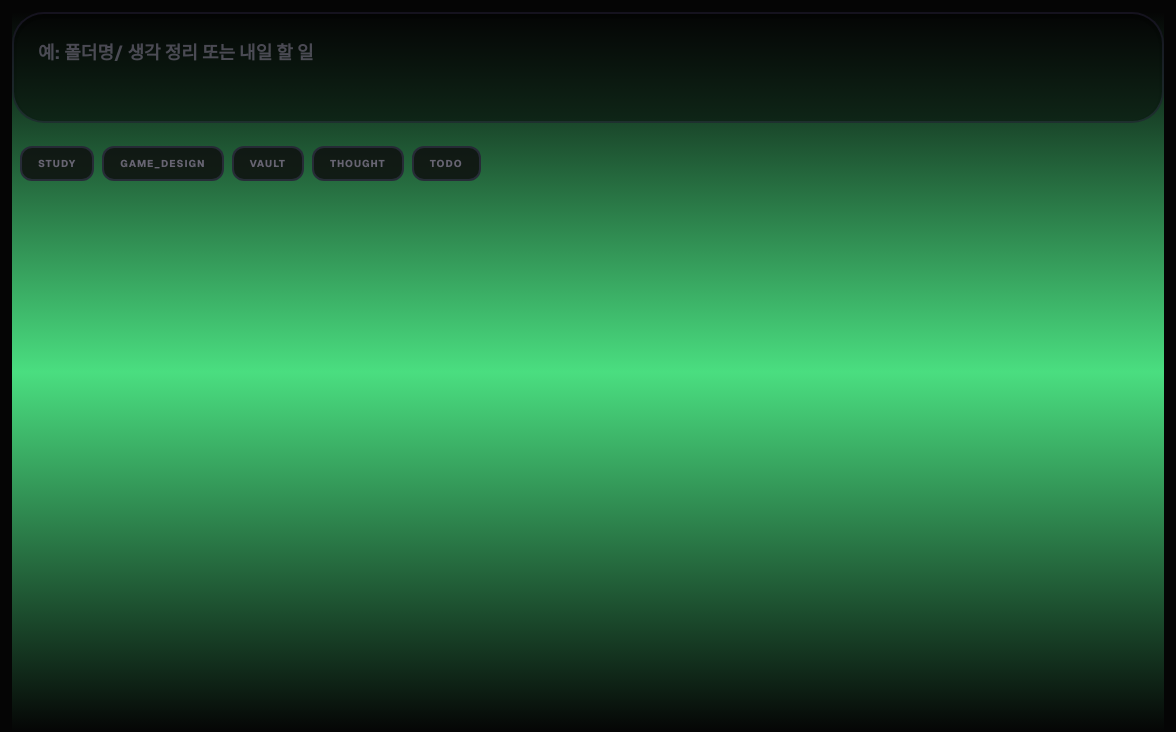
MemoInput Component › 우선순위가 High일 경우 특별한 표시가 되어야 함
Type "내일 시험 공부하기" into the text box with placeholder "예: 폴더명/ 생각 정리 또는 내일 할 일" at (588, 67), box left=12, top=12, right=1164, bottom=122
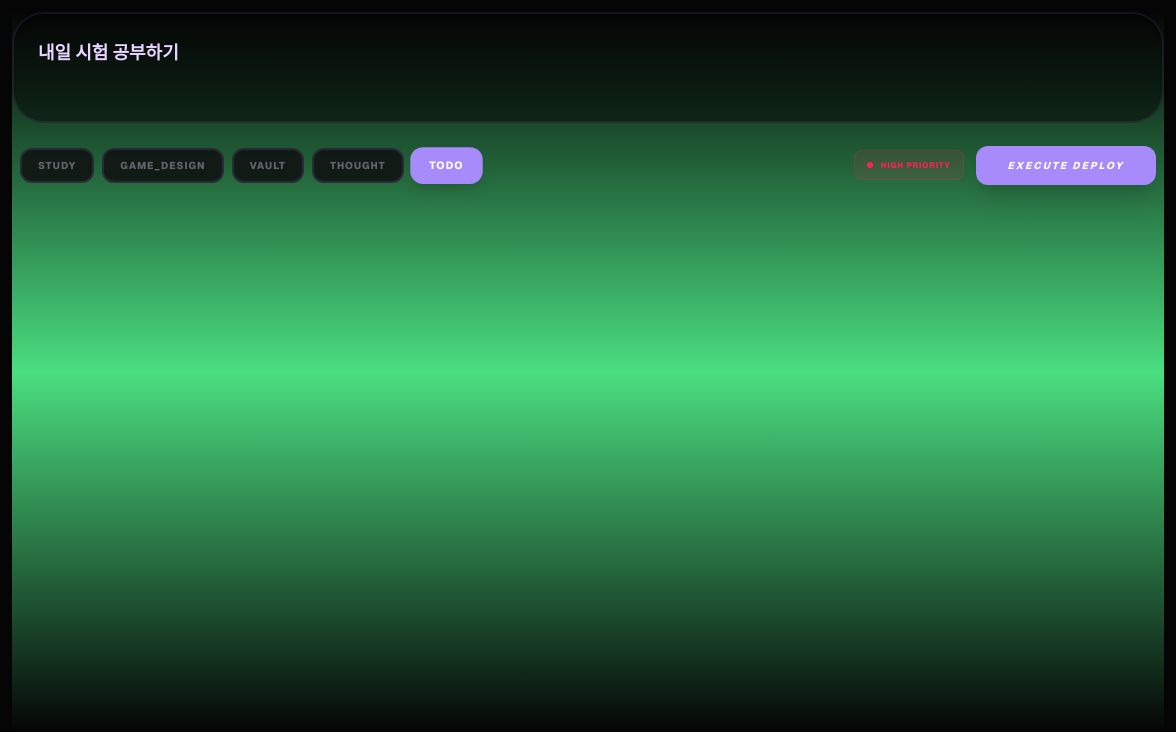
Expected: the text "High Priority" is shown, left=881, top=159, right=951, bottom=171
